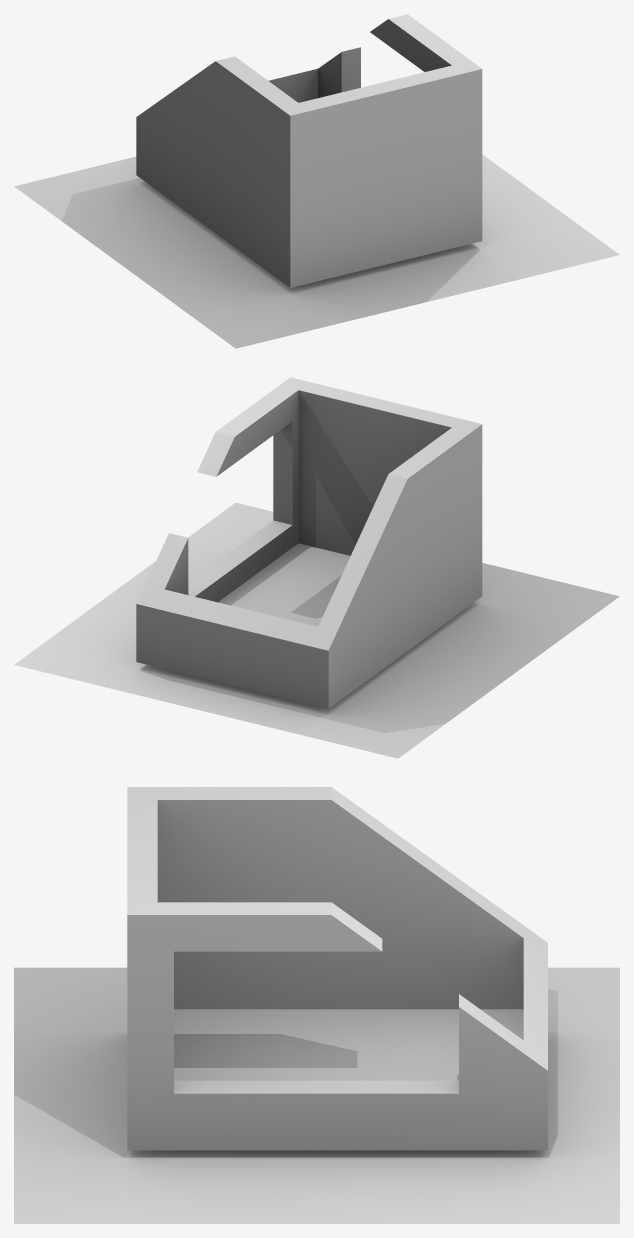
The model's file is escena_1.dae.
3 views of the same model, one above another, from view 1: azimuth 30°, elevation 25°; view 2: azimuth 150°, elevation 25°; view 3: azimuth 270°, elevation 25° (orthographic). The views are drawn at different scales.
Visible parts, largest first — view 1: Caja, Suelo; view 2: Caja, Suelo; view 3: Caja, Suelo.
Boxes of the visible parts, left/top/right/bottom form: Caja: left=136, top=14, right=482, bottom=287; Suelo: left=14, top=154, right=619, bottom=348; Caja: left=136, top=377, right=482, bottom=708; Suelo: left=14, top=502, right=619, bottom=758; Caja: left=127, top=787, right=547, bottom=1150; Suelo: left=14, top=967, right=619, bottom=1223.
Size of the model in its own units: 4 by 4 by 1.78.
2 materials, 2 textured.
